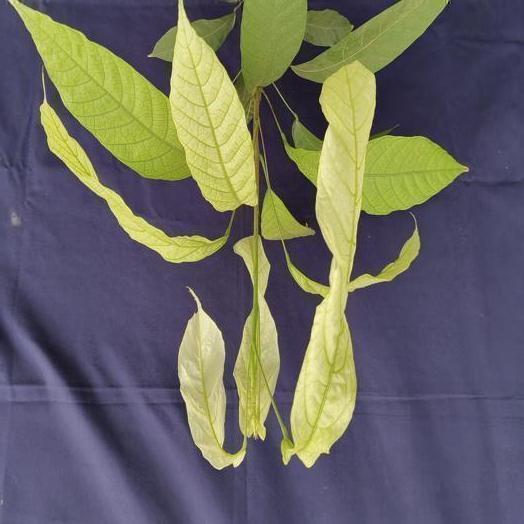Iron: (291, 62, 374, 466), (40, 97, 233, 262), (13, 0, 189, 180), (170, 0, 254, 211), (292, 0, 447, 82), (178, 288, 245, 467), (234, 240, 279, 439), (362, 136, 467, 214), (241, 0, 306, 90), (348, 224, 419, 292), (262, 186, 314, 239), (284, 242, 327, 296), (304, 10, 352, 46), (193, 12, 235, 50), (148, 26, 176, 61), (234, 237, 251, 278)
